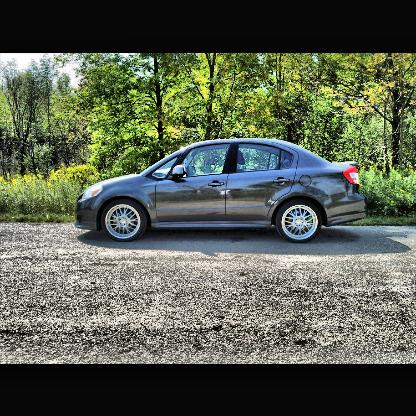Suzuki SX4 Sedan 2012: (71, 129, 373, 248)
